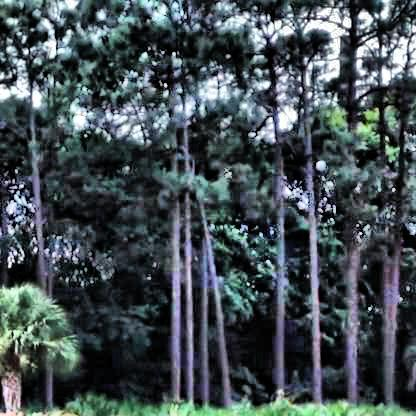golfball: (314, 159, 323, 169)
